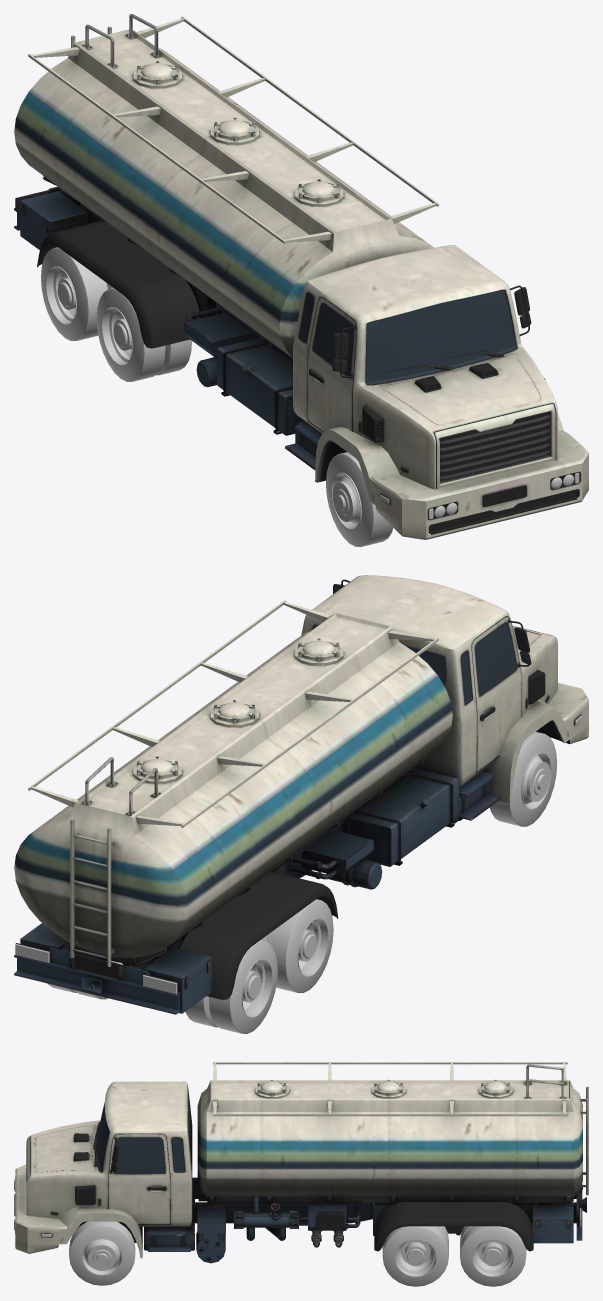
File: Fuel_truck_GreenDiesel.fbx
3 views of the same model, one above another, from view 1: azimuth 30°, elevation 25°; view 2: azimuth 150°, elevation 25°; view 3: azimuth 270°, elevation 25° (orthographic). The views are drawn at different scales.
Visible parts, largest first — view 1: body_main, wheels_back_axis1, wheels_back_axis2, wheel_front_right; view 2: body_main, wheels_back_axis2, wheels_back_axis1, wheel_front_right; view 3: body_main, wheel_front_left, wheels_back_axis1, wheels_back_axis2.
Part boxes in pixels (bbox=[...]): body_main: bbox=[14, 14, 588, 539]; wheels_back_axis1: bbox=[96, 288, 191, 381]; wheels_back_axis2: bbox=[41, 247, 113, 340]; wheel_front_right: bbox=[326, 452, 392, 546]; body_main: bbox=[14, 575, 588, 1014]; wheels_back_axis2: bbox=[47, 940, 277, 1033]; wheels_back_axis1: bbox=[261, 899, 333, 992]; wheel_front_right: bbox=[490, 731, 557, 826]; body_main: bbox=[14, 1062, 588, 1263]; wheel_front_left: bbox=[69, 1221, 135, 1285]; wheels_back_axis1: bbox=[382, 1226, 448, 1286]; wheels_back_axis2: bbox=[460, 1226, 526, 1286].
Size of the model in its own units: 322 by 400 by 1139.
